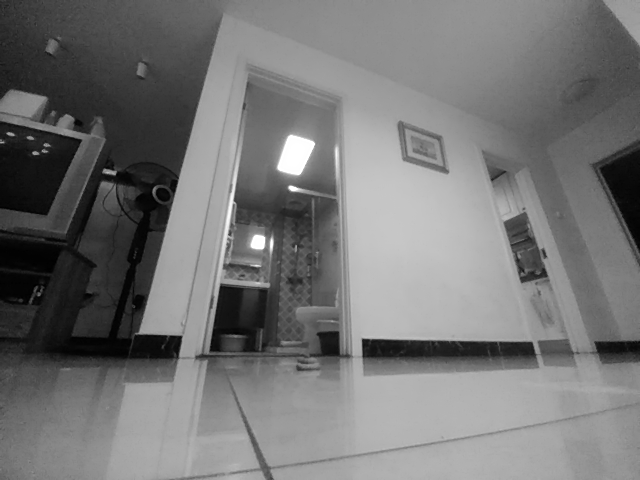pet feces: (296, 351, 321, 372)
